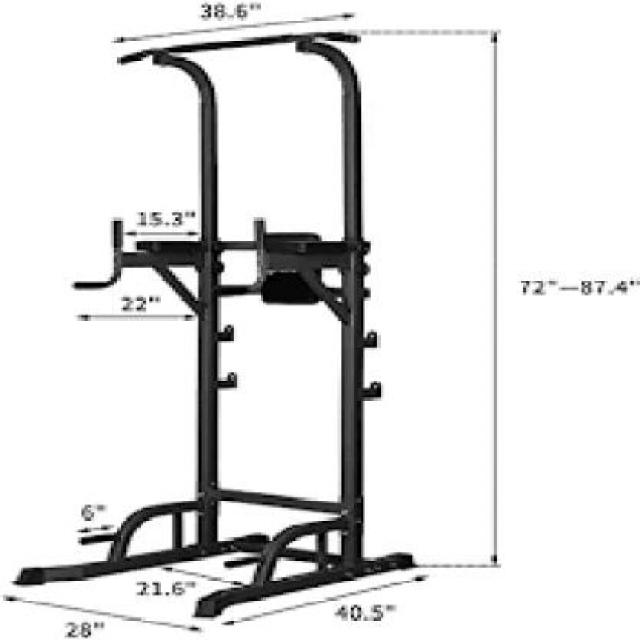chinning dipping: (18, 29, 414, 617)
